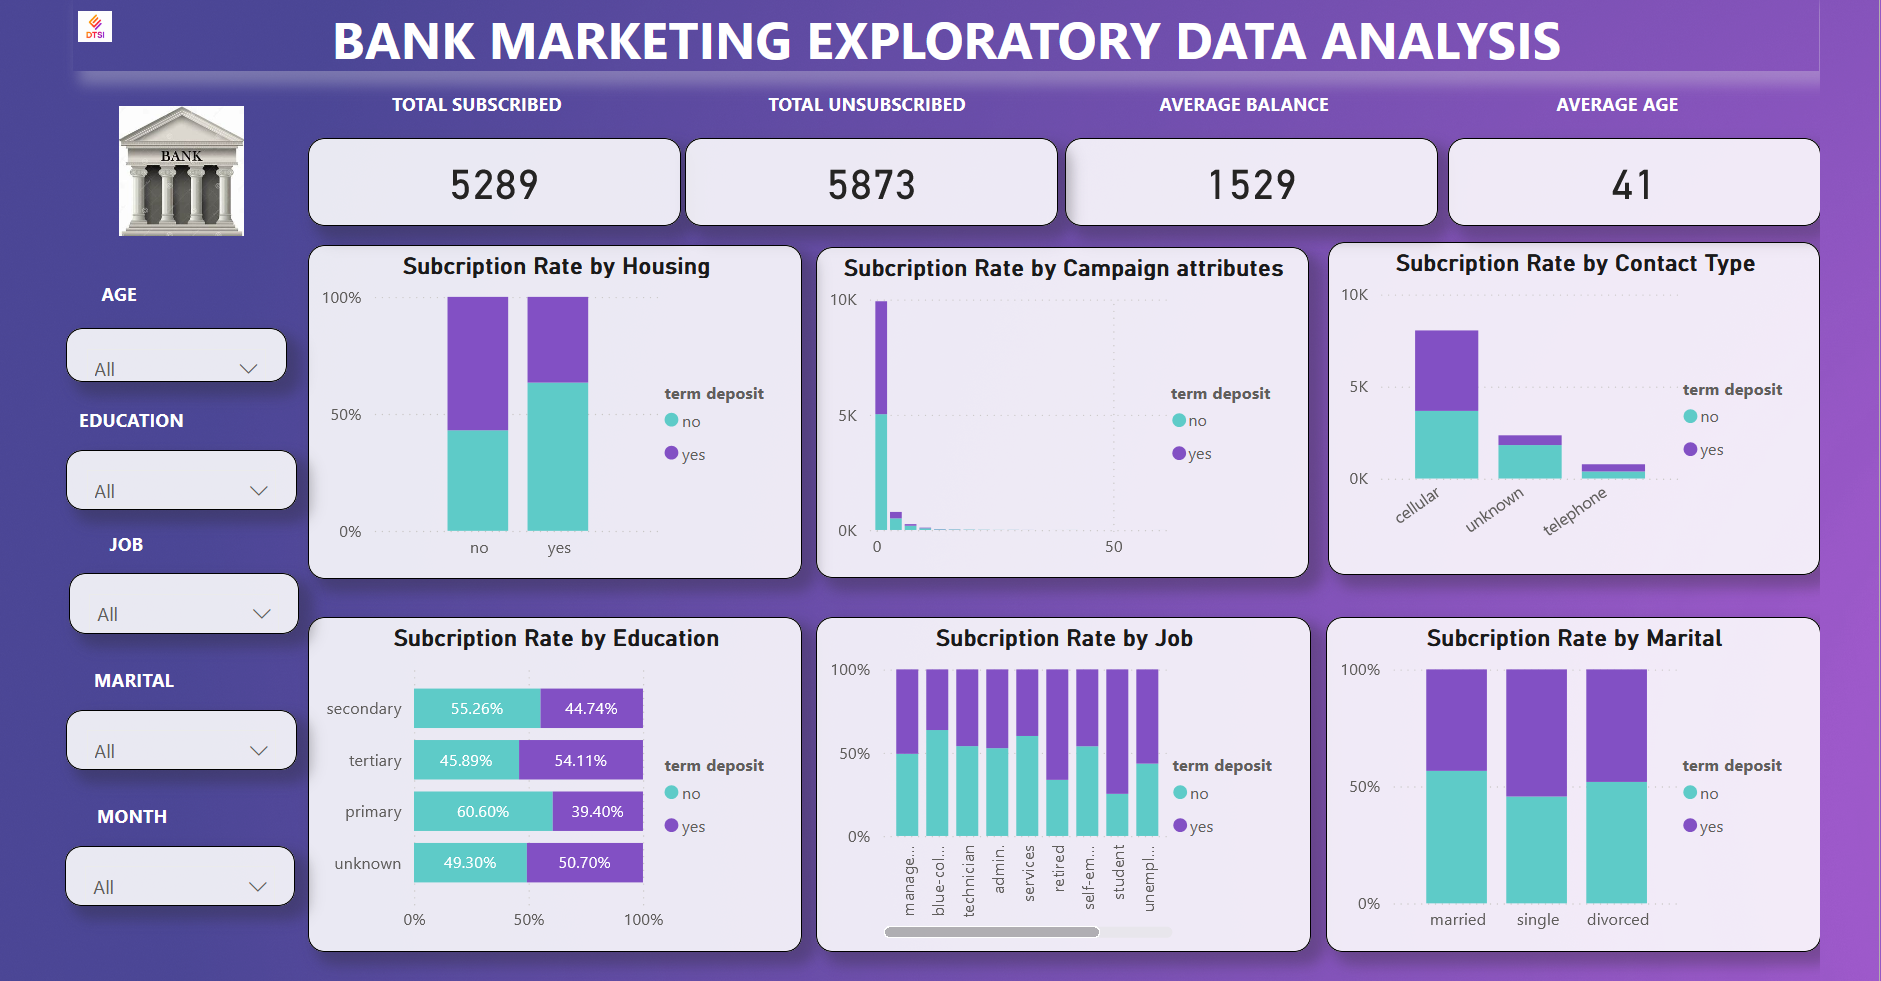

What the dashboard file says about the page in this screenshot:
{"tool":"powerbi","page":{"name":"Analysis by Subcription","canvas":[1280,720],"ordinal":1},"visuals":[{"type":"textbox","box":[9.5,0,1270.5,53.8],"z":0},{"type":"columnChart","title":"Subcription Rate by Campaign attributes","fields":{"Y":["CountNonNull(bank_data_cleaned.term deposit)"],"Category":["bank_data_cleaned.campaign (bins)"],"Series":["bank_data_cleaned.term deposit"]},"box":[550.3,182.2,358.3,240.9],"z":1000},{"type":"columnChart","title":"Subcription Rate by Contact Type","fields":{"Category":["bank_data_cleaned.contact"],"Y":["CountNonNull(bank_data_cleaned.Index)"],"Series":["bank_data_cleaned.term deposit"]},"box":[922,178.5,358.3,242.1],"z":2000},{"type":"hundredPercentStackedBarChart","title":"Subcription Rate by Education","fields":{"Category":["bank_data_cleaned.education"],"Y":["CountNonNull(bank_data_cleaned.Index)"],"Series":["bank_data_cleaned.term deposit"]},"box":[179.8,451.2,359.5,243.3],"z":3000},{"type":"hundredPercentStackedColumnChart","title":"Subcription Rate by Housing","fields":{"Category":["bank_data_cleaned.housing"],"Y":["CountNonNull(bank_data_cleaned.Index)"],"Series":["bank_data_cleaned.term deposit"]},"box":[179.8,179.8,359.5,243.3],"z":4000},{"type":"hundredPercentStackedColumnChart","title":"Subcription Rate by Job","fields":{"Y":["CountNonNull(bank_data_cleaned.Index)"],"Series":["bank_data_cleaned.term deposit"],"Category":["bank_data_cleaned.job"]},"box":[550.3,451.2,359.5,243.3],"z":5000},{"type":"hundredPercentStackedColumnChart","title":"Subcription Rate by Marital","fields":{"Y":["CountNonNull(bank_data_cleaned.Index)"],"Series":["bank_data_cleaned.term deposit"],"Category":["bank_data_cleaned.marital"]},"box":[920.8,451.2,359.5,243.3],"z":6000},{"type":"slicer","fields":{"Values":["bank_data_cleaned.age"]},"box":[4.9,240.9,160.2,39.1],"z":7000},{"type":"slicer","fields":{"Values":["bank_data_cleaned.education"]},"box":[4.9,328.9,167.5,44],"z":8000},{"type":"textbox","box":[1.2,201.8,84.4,39.1],"z":9000},{"type":"textbox","box":[3.7,293.5,96.6,35.5],"z":10000},{"type":"slicer","fields":{"Values":["bank_data_cleaned.job"]},"box":[6.1,419.4,167.5,44],"z":11000},{"type":"textbox","box":[0,384,96.6,35.5],"z":12000},{"type":"slicer","fields":{"Values":["bank_data_cleaned.marital"]},"box":[4.9,518.5,167.5,44],"z":13000},{"type":"textbox","box":[3.7,483,100.3,35.5],"z":14000},{"type":"slicer","fields":{"Values":["bank_data_cleaned.month"]},"box":[3.7,617.5,167.5,44],"z":15000},{"type":"textbox","box":[0,582.1,105.2,35.5],"z":16000},{"type":"card","fields":{"Values":["Avg(bank_data_cleaned.balance)"]},"box":[731.3,102.7,271.5,63.6],"z":17000},{"type":"card","fields":{"Values":["Avg(bank_data_cleaned.age)"]},"box":[1008.8,102.7,271.5,63.6],"z":18000},{"type":"card","fields":{"Values":["bank_data_cleaned.TotalDepositsYes"]},"box":[179.8,102.7,271.5,63.6],"z":19000},{"type":"card","fields":{"Values":["bank_data_cleaned.TotalDepositsNo"]},"box":[454.9,102.7,271.5,63.6],"z":20000},{"type":"textbox","box":[179.8,63.6,245.8,39.1],"z":21000},{"type":"textbox","box":[738.3,63.6,245.8,39.1],"z":22000},{"type":"textbox","box":[1014.7,63.6,236,39.1],"z":23000},{"type":"textbox","box":[463.5,63.6,245.8,39.1],"z":24000},{"type":"image","box":[34.2,74.6,107.6,103.9],"z":25000},{"type":"image","box":[8.1,4.7,34.9,33.7],"z":25001}]}

Visuals, with their boxes on the page's 1280x720 design canvas (x1, y1, x2, y2). These are canvas units, not pixel positions in the 1881x981 screenshot, which may show the page scaled, cropped or inside an application window:
textbox: [left=10, top=0, right=1280, bottom=54]
"Subcription Rate by Campaign attributes" columnChart: [left=550, top=182, right=909, bottom=423]
"Subcription Rate by Contact Type" columnChart: [left=922, top=178, right=1280, bottom=421]
"Subcription Rate by Education" hundredPercentStackedBarChart: [left=180, top=451, right=539, bottom=694]
"Subcription Rate by Housing" hundredPercentStackedColumnChart: [left=180, top=180, right=539, bottom=423]
"Subcription Rate by Job" hundredPercentStackedColumnChart: [left=550, top=451, right=910, bottom=694]
"Subcription Rate by Marital" hundredPercentStackedColumnChart: [left=921, top=451, right=1280, bottom=694]
slicer - bank_data_cleaned.age: [left=5, top=241, right=165, bottom=280]
slicer - bank_data_cleaned.education: [left=5, top=329, right=172, bottom=373]
textbox: [left=1, top=202, right=86, bottom=241]
textbox: [left=4, top=294, right=100, bottom=329]
slicer - bank_data_cleaned.job: [left=6, top=419, right=174, bottom=463]
textbox: [left=0, top=384, right=97, bottom=420]
slicer - bank_data_cleaned.marital: [left=5, top=518, right=172, bottom=562]
textbox: [left=4, top=483, right=104, bottom=518]
slicer - bank_data_cleaned.month: [left=4, top=618, right=171, bottom=662]
textbox: [left=0, top=582, right=105, bottom=618]
card - Avg(bank_data_cleaned.balance): [left=731, top=103, right=1003, bottom=166]
card - Avg(bank_data_cleaned.age): [left=1009, top=103, right=1280, bottom=166]
card - bank_data_cleaned.TotalDepositsYes: [left=180, top=103, right=451, bottom=166]
card - bank_data_cleaned.TotalDepositsNo: [left=455, top=103, right=726, bottom=166]
textbox: [left=180, top=64, right=426, bottom=103]
textbox: [left=738, top=64, right=984, bottom=103]
textbox: [left=1015, top=64, right=1251, bottom=103]
textbox: [left=464, top=64, right=709, bottom=103]
image: [left=34, top=75, right=142, bottom=178]
image: [left=8, top=5, right=43, bottom=38]
